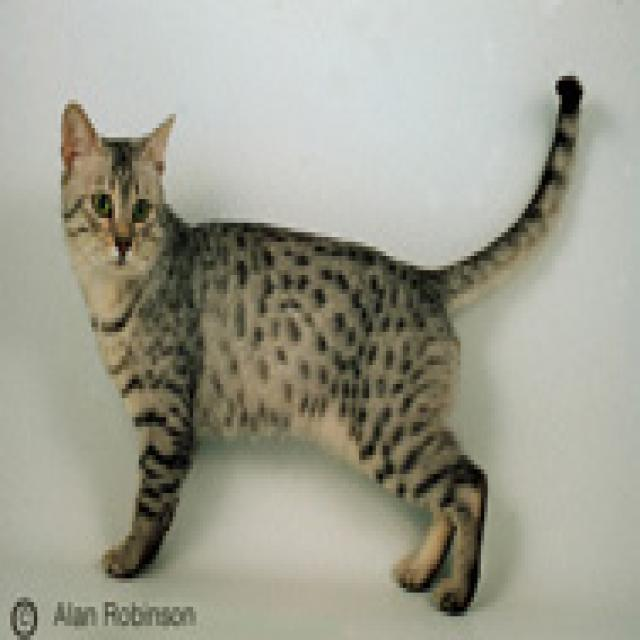Egyptian_Mau: (55, 96, 183, 274)
